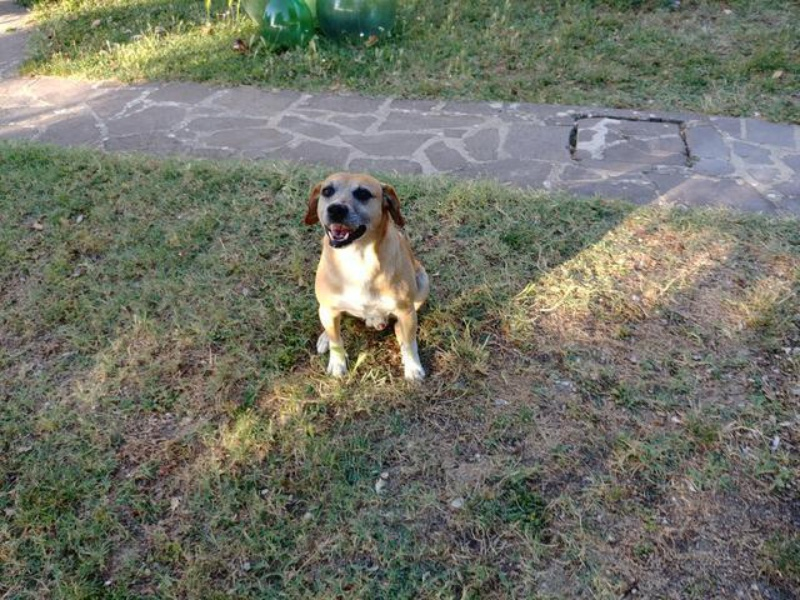puppy: (272, 144, 474, 401)
